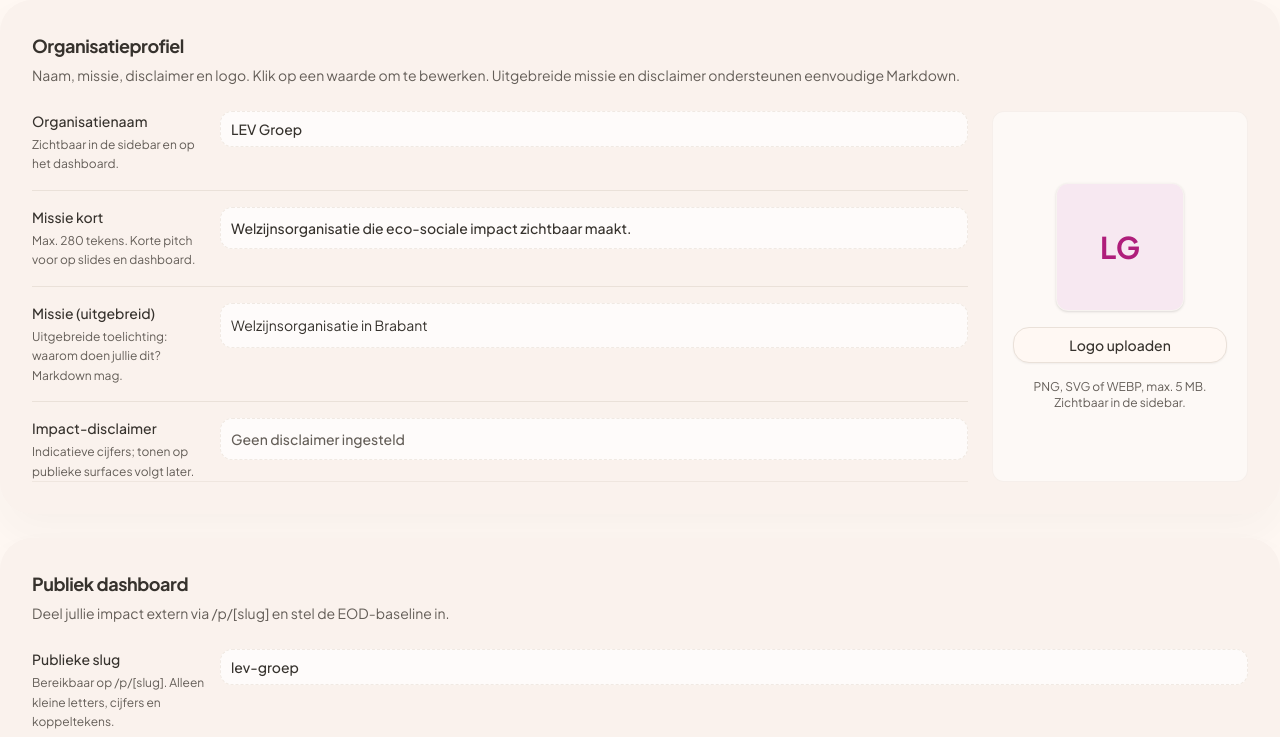
Test: <GeneralTab /> › opens inline editing for mission short with character counter
This screenshot has width=1280, height=737.
Click the button with aria-label "missie kort bewerken". click: (594, 228)
box: [220, 207, 968, 249]
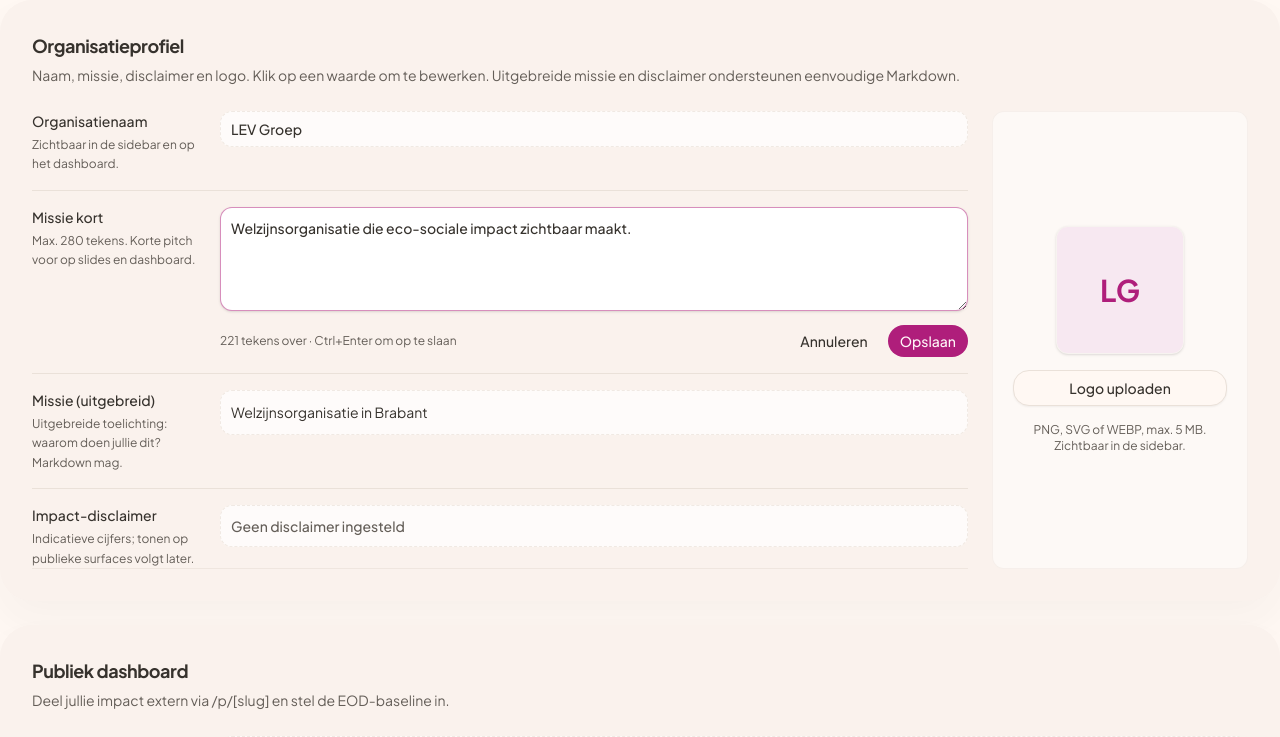
expect the text box named "missie kort bewerken" is shown: met, box [220, 207, 968, 311]
expect the text "221 tekens over · Ctrl+Enter om op te slaan" is shown: met, box [220, 333, 456, 349]
expect the button "Opslaan" is shown: met, box [888, 325, 968, 357]
